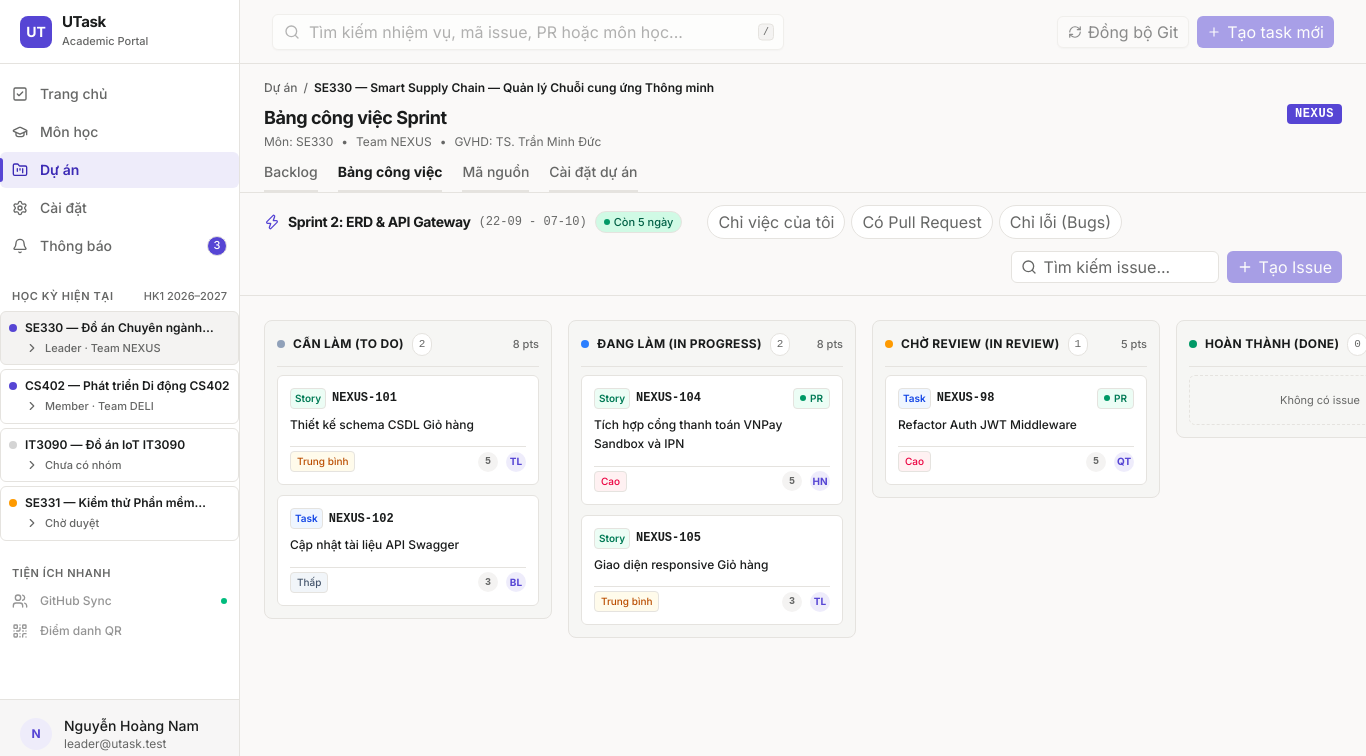
Scenario: project workspace layout › navigates from board to code keeping projectId
The image size is (1366, 756).
Expected: the heading "Bảng công việc Sprint" is shown, [264,107,447,128]
Click the link "Mã nguồn" at (496, 175), box [462,158,529,192]
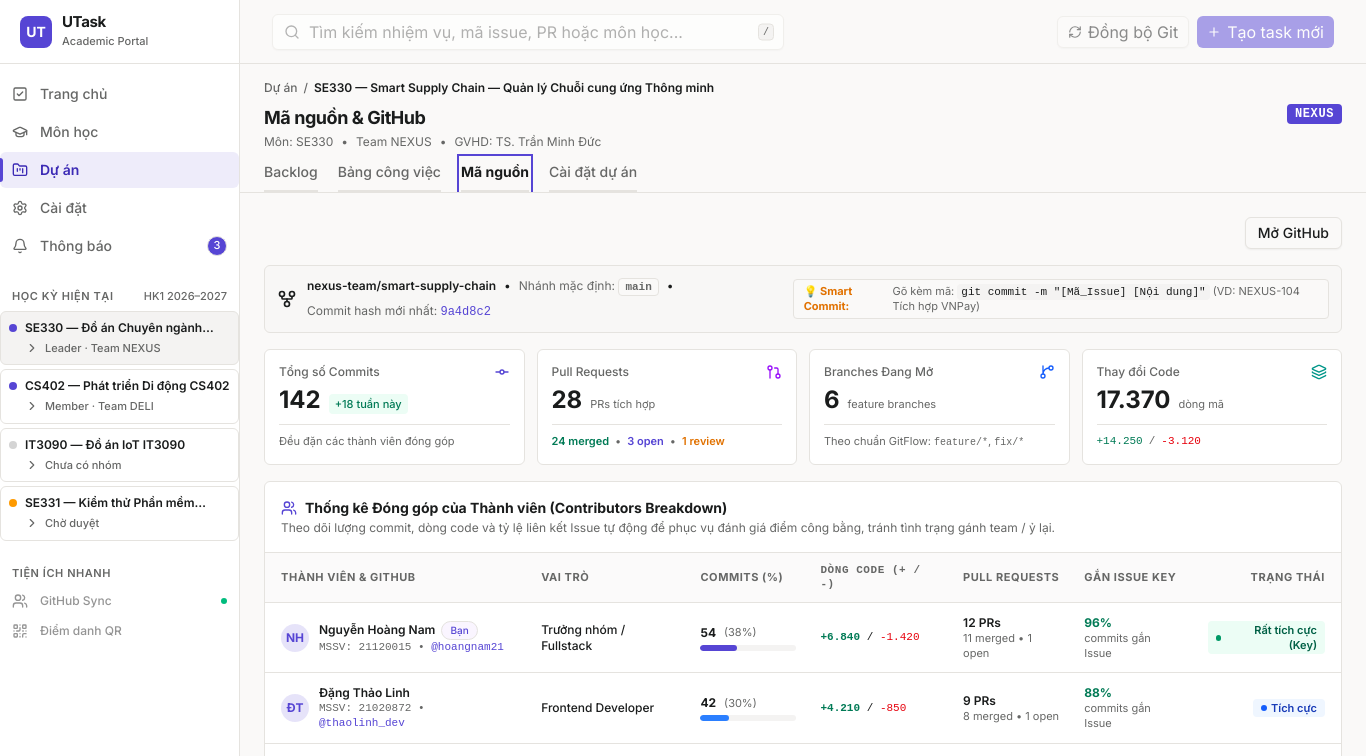
Expected: the heading "Mã nguồn & GitHub" is shown, [264,107,426,128]
